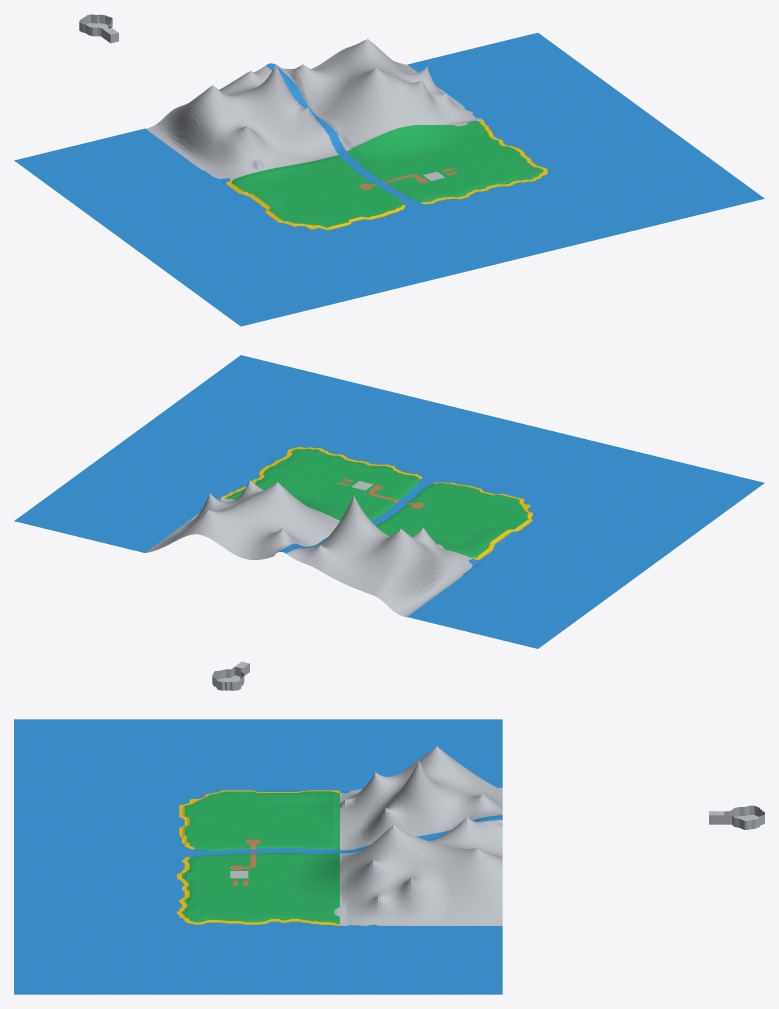
File: environment_base.glb
The picture shows the model from 3 angles, top to bottom: view 1: azimuth 30°, elevation 25°; view 2: azimuth 150°, elevation 25°; view 3: azimuth 270°, elevation 25°; orthographic projection. The views are drawn at different scales.
Visible parts, largest first — view 1: Seg-499-501, Seg-500-501, Seg-500-500, Seg-499-500, Seg-498-499, Seg-498-501, Seg-499-499, Seg-501-499, Seg-501-500, Seg-498-500, Seg-500-499, Seg-501-501 (+1 smaller); view 2: Seg-499-501, Seg-498-499, Seg-501-499, Seg-500-499, Seg-499-499, Seg-498-501, Seg-498-500, Seg-501-500, Seg-501-501, Seg-499-500, Seg-500-500, Seg-500-501 (+1 smaller); view 3: Seg-500-501, Seg-500-500, Seg-498-500, Seg-498-499, Seg-499-499, Seg-500-499, Seg-501-499, Seg-501-500, Seg-501-501, Seg-499-500, Seg-499-501, Seg-498-501 (+1 smaller).
Boxes of the visible parts, x1,y1,x2,y2 form: Seg-499-501: [145, 63, 351, 183]; Seg-500-501: [282, 38, 482, 149]; Seg-500-500: [352, 120, 557, 207]; Seg-499-500: [221, 149, 426, 239]; Seg-498-499: [165, 239, 371, 326]; Seg-498-501: [14, 128, 220, 215]; Seg-499-499: [296, 207, 502, 294]; Seg-501-499: [559, 143, 764, 230]; Seg-501-500: [483, 88, 688, 175]; Seg-498-500: [90, 184, 295, 270]; Seg-500-499: [428, 175, 633, 262]; Seg-501-501: [407, 32, 612, 119]; Seg-499-501: [276, 495, 482, 616]; Seg-498-499: [559, 451, 764, 538]; Seg-501-499: [165, 355, 371, 442]; Seg-500-499: [296, 387, 502, 474]; Seg-499-499: [428, 419, 633, 506]; Seg-498-501: [407, 562, 612, 648]; Seg-498-500: [483, 506, 688, 593]; Seg-501-500: [90, 410, 295, 497]; Seg-501-501: [14, 466, 220, 552]; Seg-499-500: [368, 474, 557, 561]; Seg-500-500: [222, 442, 426, 520]; Seg-500-501: [145, 480, 339, 559]; Seg-500-501: [340, 817, 502, 925]; Seg-500-500: [177, 854, 339, 925]; Seg-498-500: [177, 719, 339, 787]; Seg-498-499: [14, 719, 176, 787]; Seg-499-499: [14, 788, 176, 856]; Seg-500-499: [14, 857, 176, 925]; Seg-501-499: [14, 926, 176, 994]; Seg-501-500: [177, 926, 339, 994]; Seg-501-501: [340, 926, 502, 994]; Seg-499-500: [177, 788, 339, 856]; Seg-499-501: [340, 746, 502, 854]; Seg-498-501: [340, 719, 502, 787].
Bounding box in the file's own units: 256 × 33.42 × 295.
Materials: 6 (6 with a texture image).
